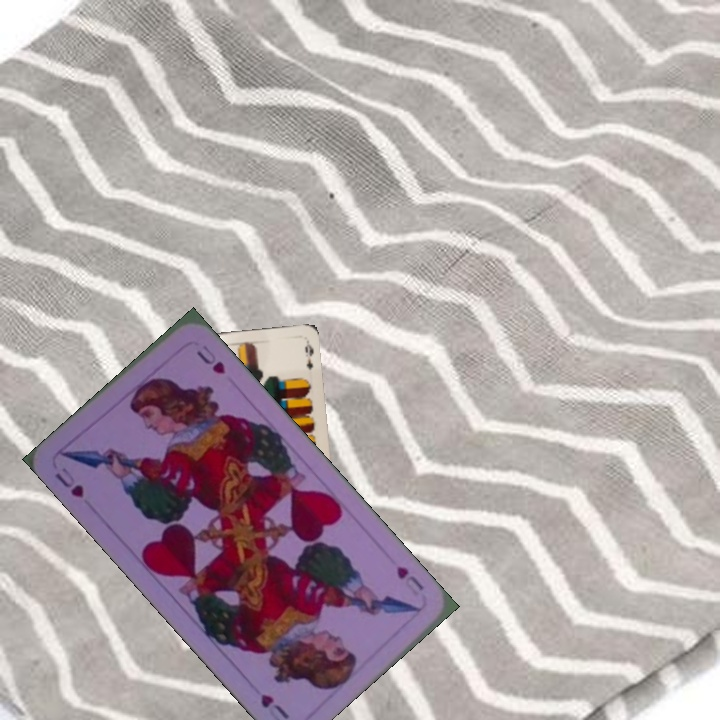HU: (51, 463, 87, 501), (392, 562, 427, 598)
